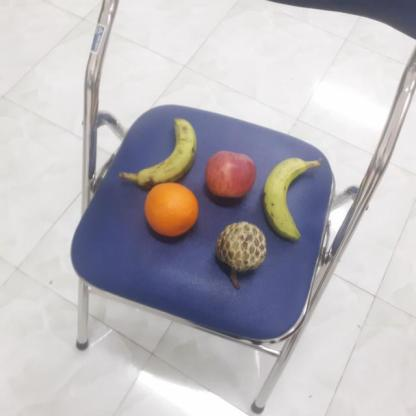annona: (214, 219, 268, 272)
apple: (205, 150, 259, 202)
banana: (126, 115, 199, 186), (262, 158, 322, 240)
orange: (143, 182, 199, 240)
